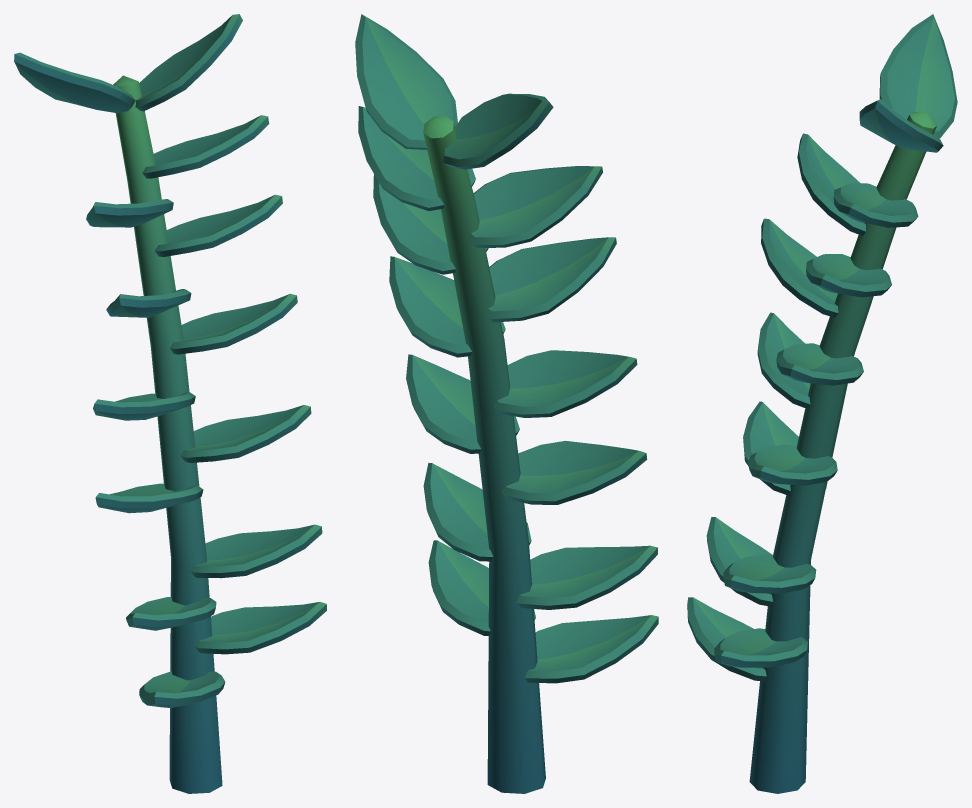
File: ZZ Plant Leaf-HFy1uvlNbZ.glb
3 views of the same model, side by side, from view 1: azimuth 30°, elevation 25°; view 2: azimuth 150°, elevation 25°; view 3: azimuth 270°, elevation 25° (orthographic). The views are drawn at different scales.
Visible parts, largest first — view 1: zzplant_leaf_medium_C; view 2: zzplant_leaf_medium_C; view 3: zzplant_leaf_medium_C.
Part boxes in pixels (x1=…): zzplant_leaf_medium_C: x1=14, y1=14, x2=326, y2=793; zzplant_leaf_medium_C: x1=355, y1=14, x2=658, y2=793; zzplant_leaf_medium_C: x1=687, y1=14, x2=957, y2=793.
Bounding box in the file's own units: 0.6329 × 1.98 × 0.6668.
Materials: 1 (1 with a texture image).
